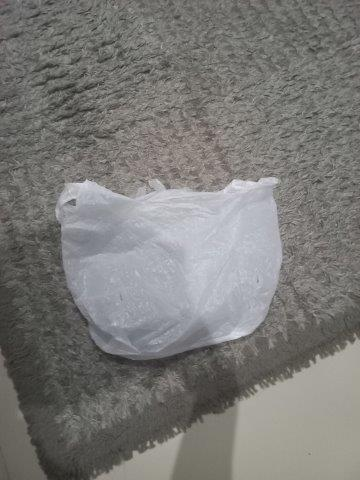plastik: (51, 175, 280, 359)
